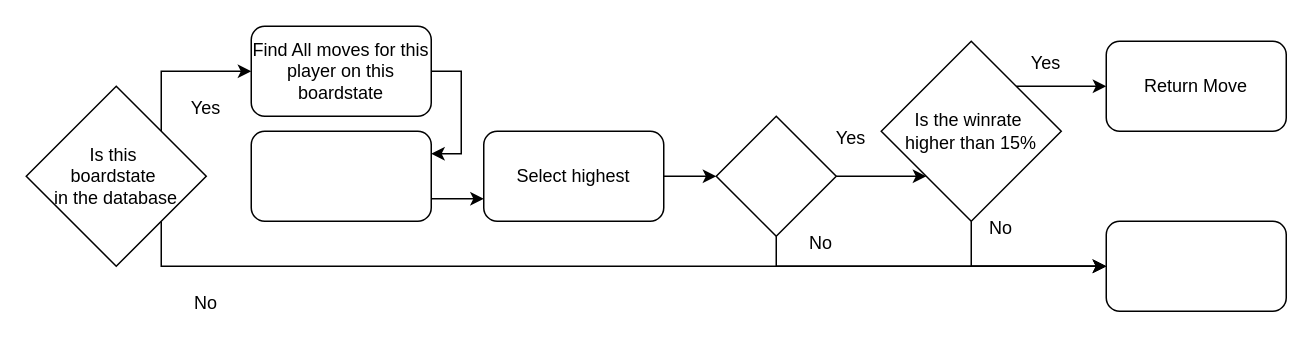
The diagram is 1313 pixels wide and 353 high, and some of its shapes have lost their labels. The box of each missing label's shape, as (x1, y1, x2, y2) in pixels:
are there a move: (715, 115, 836, 236)
Return a move made by alphabeta: (1105, 220, 1286, 311)
Sort by winrate highest to lowest: (250, 130, 431, 221)
